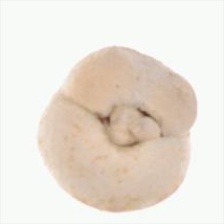L3: (85, 102, 166, 146)
L4: (37, 46, 199, 213)
